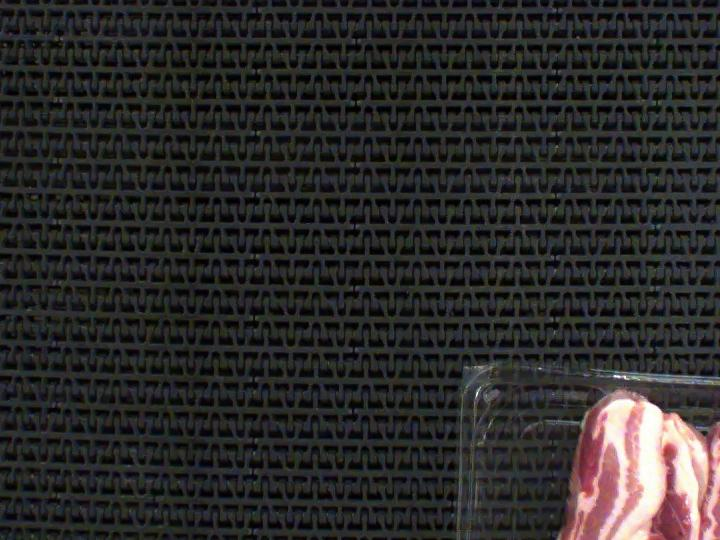packaging-error: (597, 380, 663, 404)
